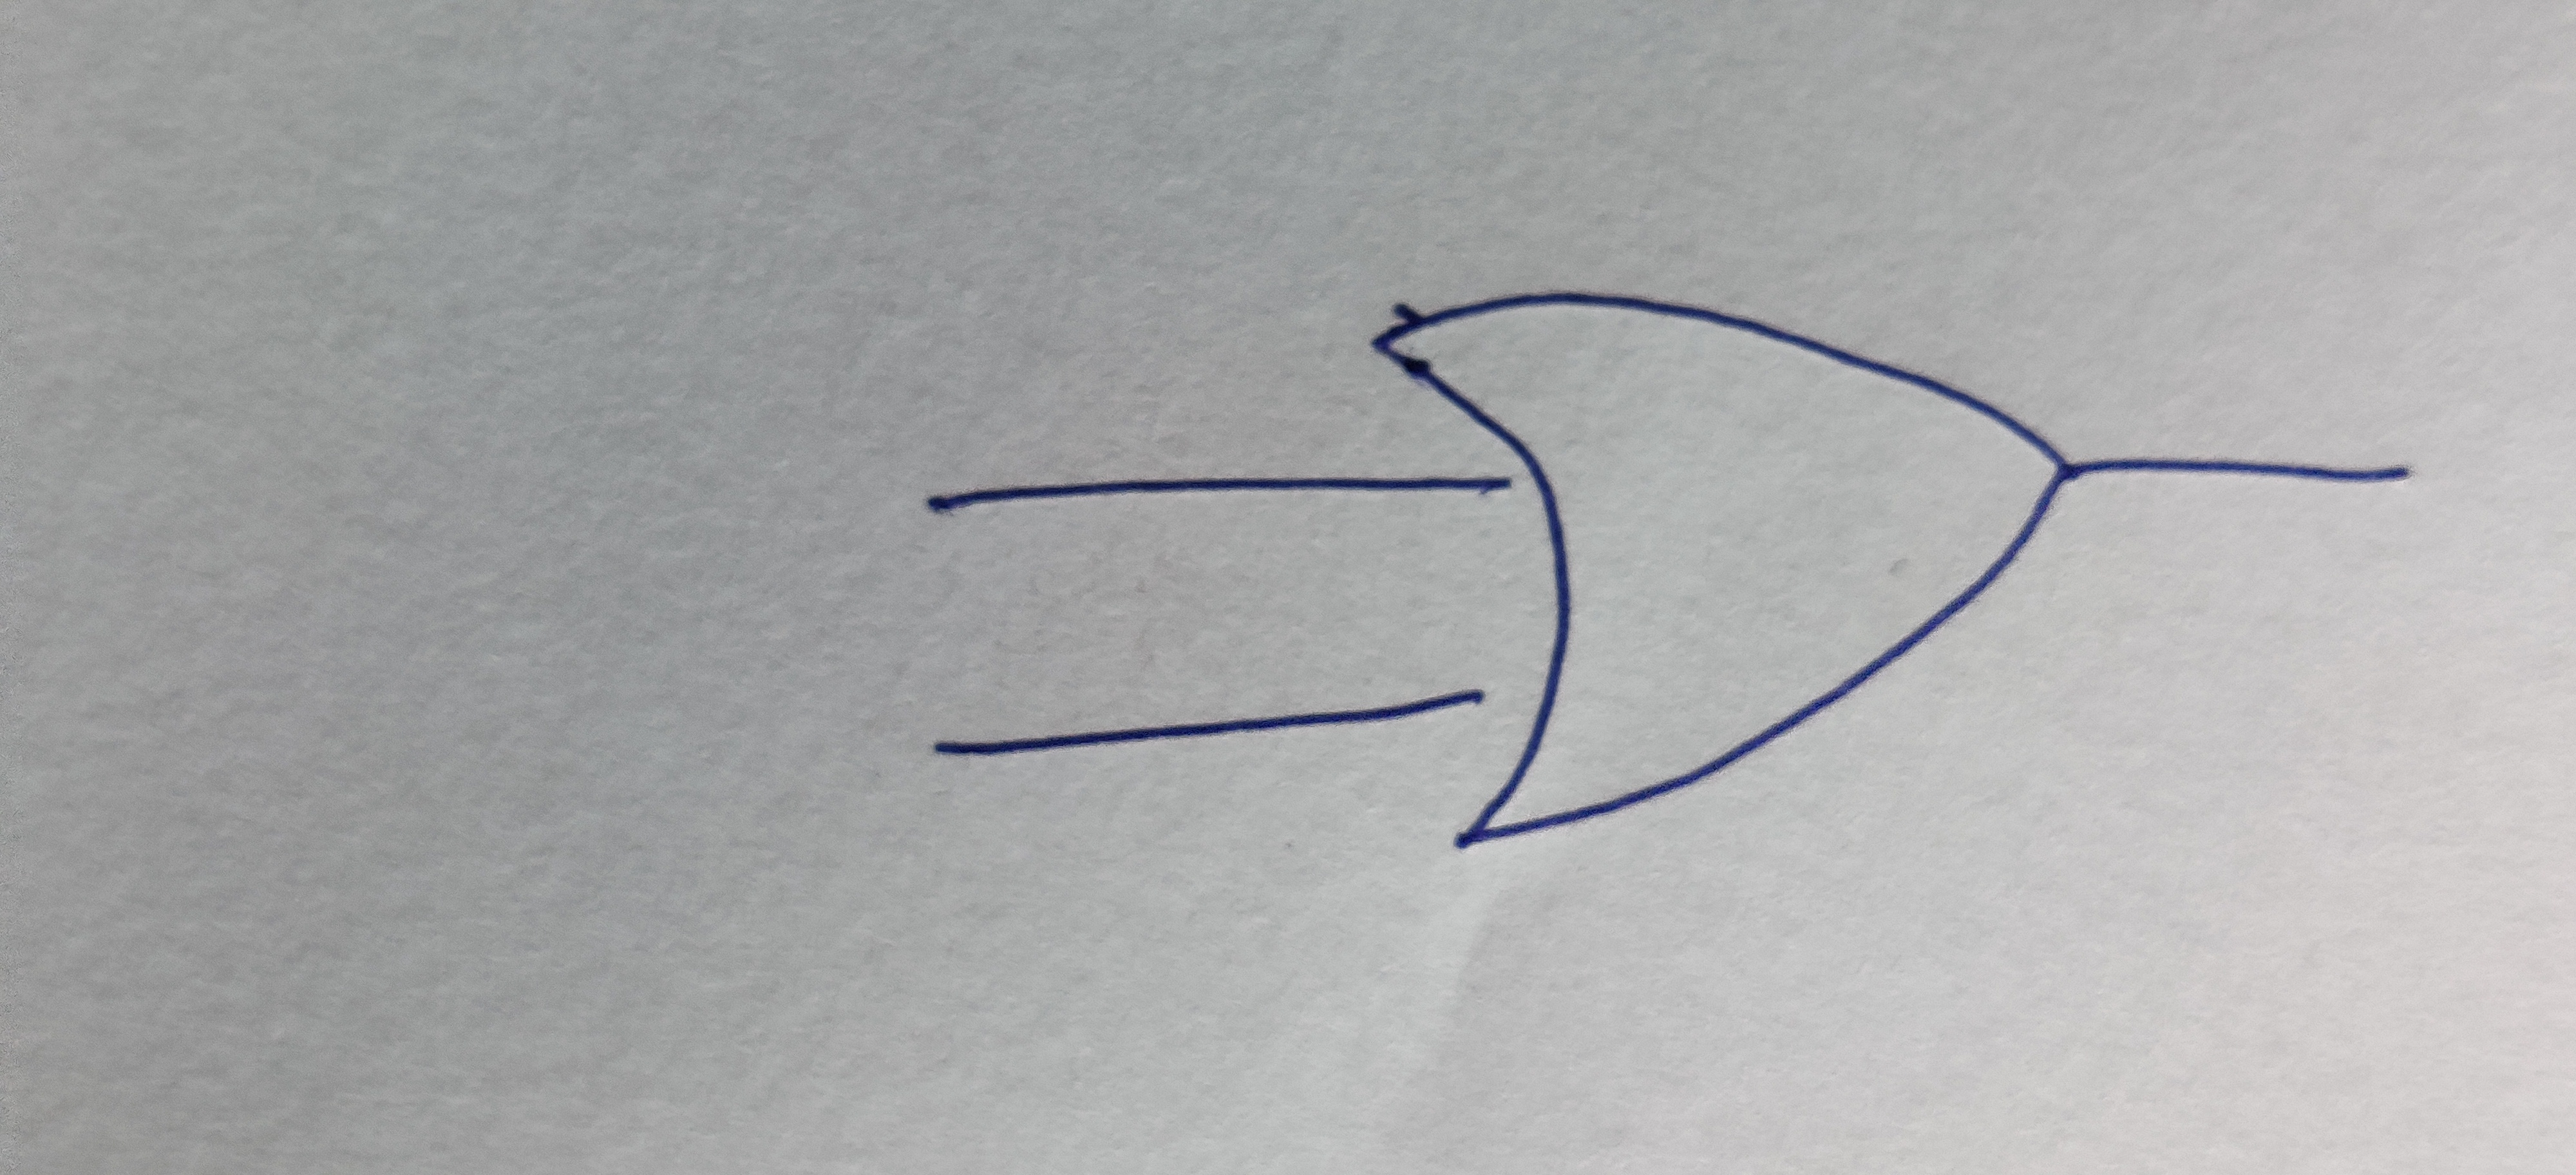or: (1377, 296, 2075, 846)
